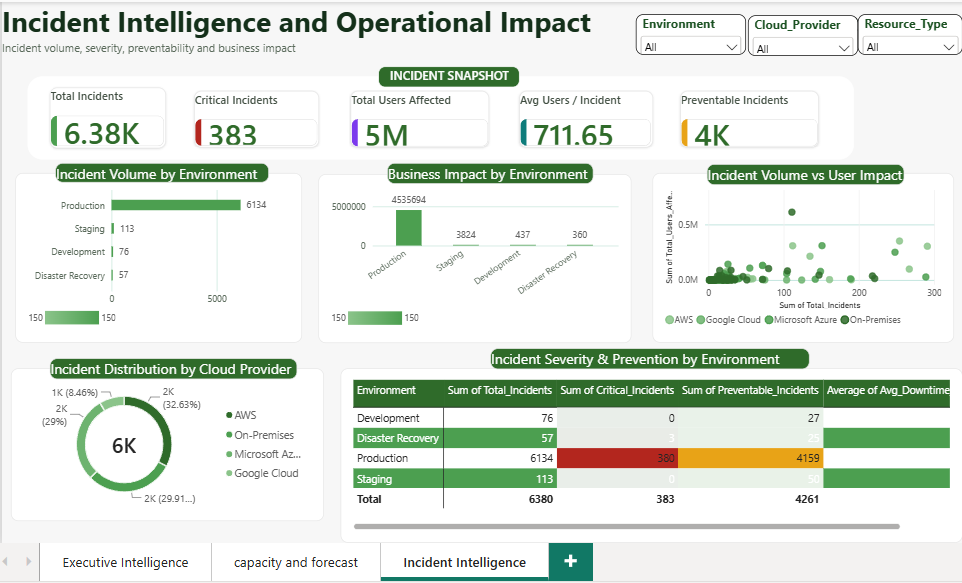

The page's visual inventory and layout, read from the dashboard file:
{"tool":"powerbi","page":{"name":"Incident Intelligence","canvas":[1280,720],"ordinal":2},"visuals":[{"type":"pivotTable","fields":{"Rows":["vw_incident_risk.Environment"],"Values":["Sum(vw_incident_risk.Total_Incidents)","Sum(vw_incident_risk.Critical_Incidents)","Sum(vw_incident_risk.Preventable_Incidents)","Avg(vw_incident_risk.Avg_Downtime_Minutes)"]},"box":[451.5,487.8,828.9,232.4],"z":0},{"type":"clusteredColumnChart","fields":{"Category":["vw_incident_risk.Environment"],"Y":["Sum(vw_incident_risk.Total_Users_Affected)"]},"box":[421.9,229.1,416.7,225],"z":1000},{"type":"clusteredBarChart","fields":{"Category":["vw_incident_risk.Environment"],"Y":["Sum(vw_incident_risk.Total_Incidents)"]},"box":[18.1,227.4,382.3,225.8],"z":2000},{"type":"shape","box":[34.6,98.9,1100.8,110.4],"z":3000},{"type":"textbox","title":"Incident Intelligence and Operational Impact","box":[0,0,843.3,58.3],"z":4000},{"type":"cardVisual","title":"Total Incidents","fields":{"Data":["vw_infrastructure_intelligence.Total Incidents"]},"box":[64.3,113.7,154.9,80.7],"z":5000},{"type":"textbox","title":"Incident volume, severity, preventability and business impact","box":[0,50,515,25],"z":6000},{"type":"textbox","title":"FY 2025–26","box":[1015,10,151.7,35],"z":7000},{"type":"shape","title":"INCIDENT SNAPSHOT","box":[501,85.7,187.9,28],"z":8000},{"type":"cardVisual","title":"Total Users Affected","fields":{"Data":["vw_infrastructure_intelligence.Total Users Affected"]},"box":[464.7,118.7,185,76],"z":9000},{"type":"cardVisual","title":"Avg Users / Incident","fields":{"Data":["vw_infrastructure_intelligence.Average Users Affected per Incident"]},"box":[688.8,118.7,178,75.8],"z":10000},{"type":"cardVisual","title":"Critical Incidents","fields":{"Data":["vw_infrastructure_intelligence.Critical Incidents"]},"box":[255.4,118.7,166.4,75.8],"z":11000},{"type":"scatterChart","fields":{"Category":["vw_incident_risk.Infrastructure_ID"],"Series":["vw_incident_risk.Cloud_Provider"],"X":["Sum(vw_incident_risk.Total_Incidents)"],"Y":["Sum(vw_incident_risk.Total_Users_Affected)"]},"box":[866.8,227.4,402.1,225.8],"z":12000},{"type":"shape","title":"Incident Volume by Environment","box":[70.9,214.2,285.1,26.4],"z":13000},{"type":"shape","title":"Business Impact by Environment","box":[512.5,214.2,275.2,28],"z":14000},{"type":"shape","title":"Incident Volume vs User Impact","box":[939.3,215.9,263.3,28.3],"z":15000},{"type":"donutChart","fields":{"Category":["vw_incident_risk.Cloud_Provider"],"Y":["Sum(vw_incident_risk.Total_Incidents)"]},"box":[11.5,487.8,416.7,203.3],"z":16000},{"type":"shape","title":"Incident Severity & Prevention by Environment","box":[650.9,461.4,425.2,28],"z":17000},{"type":"shape","title":"Incident Distribution by Cloud Provider","box":[64.3,474.6,329.6,28],"z":18000},{"type":"cardVisual","title":"Preventable Incidents","fields":{"Data":["vw_infrastructure_intelligence.Preventable Incidents"]},"box":[903.1,118.7,185,76],"z":19000}]}

Visuals, with their boxes on the page's 1280x720 design canvas (x1, y1, x2, y2). These are canvas units, not pixel positions in the 962x583 screenshot, which may show the page scaled, cropped or inside an application window:
pivotTable - vw_incident_risk.Environment x Sum(vw_incident_risk.Total_Incidents): box=[452, 488, 1280, 720]
clusteredColumnChart - vw_incident_risk.Environment x Sum(vw_incident_risk.Total_Users_Affected): box=[422, 229, 839, 454]
clusteredBarChart - vw_incident_risk.Environment x Sum(vw_incident_risk.Total_Incidents): box=[18, 227, 400, 453]
shape: box=[35, 99, 1135, 209]
"Incident Intelligence and Operational Impact" textbox: box=[0, 0, 843, 58]
"Total Incidents" cardVisual: box=[64, 114, 219, 194]
"Incident volume, severity, preventability and business impact" textbox: box=[0, 50, 515, 75]
"FY 2025–26" textbox: box=[1015, 10, 1167, 45]
"INCIDENT SNAPSHOT" shape: box=[501, 86, 689, 114]
"Total Users Affected" cardVisual: box=[465, 119, 650, 195]
"Avg Users / Incident" cardVisual: box=[689, 119, 867, 194]
"Critical Incidents" cardVisual: box=[255, 119, 422, 194]
scatterChart - vw_incident_risk.Infrastructure_ID x vw_incident_risk.Cloud_Provider: box=[867, 227, 1269, 453]
"Incident Volume by Environment" shape: box=[71, 214, 356, 241]
"Business Impact by Environment" shape: box=[512, 214, 788, 242]
"Incident Volume vs User Impact" shape: box=[939, 216, 1203, 244]
donutChart - vw_incident_risk.Cloud_Provider x Sum(vw_incident_risk.Total_Incidents): box=[12, 488, 428, 691]
"Incident Severity & Prevention by Environment" shape: box=[651, 461, 1076, 489]
"Incident Distribution by Cloud Provider" shape: box=[64, 475, 394, 503]
"Preventable Incidents" cardVisual: box=[903, 119, 1088, 195]
